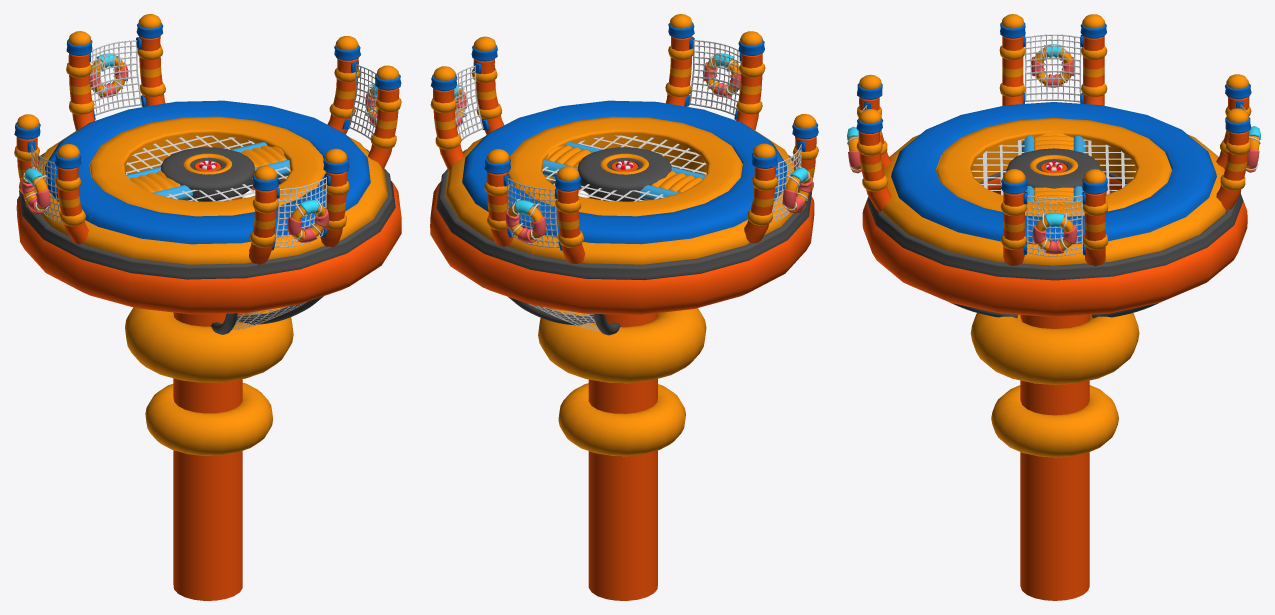
Rendered from ring2.fbx.
3 views of the same model, side by side, from view 1: azimuth 30°, elevation 25°; view 2: azimuth 150°, elevation 25°; view 3: azimuth 270°, elevation 25° (orthographic).
Visible parts, largest first — view 1: ringBasement; view 2: ringBasement; view 3: ringBasement.
Boxes of the visible parts, bbox=[...] form: ringBasement: bbox=[14, 14, 401, 600]; ringBasement: bbox=[430, 14, 818, 600]; ringBasement: bbox=[847, 14, 1260, 600].
Bounding box in the file's own units: 3217 × 4228 × 3217.
